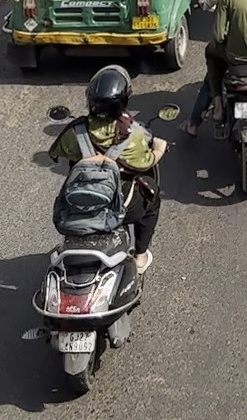BikeWithRider: (17, 60, 184, 396)
Helmet: (78, 59, 138, 124)
